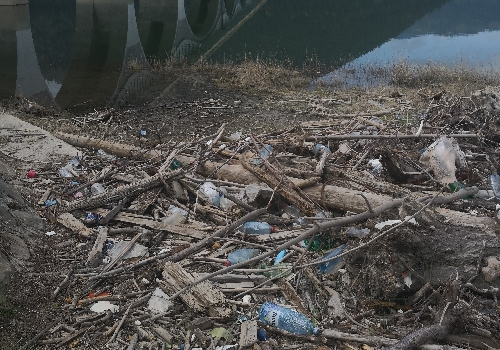trash: (54, 125, 480, 334)
